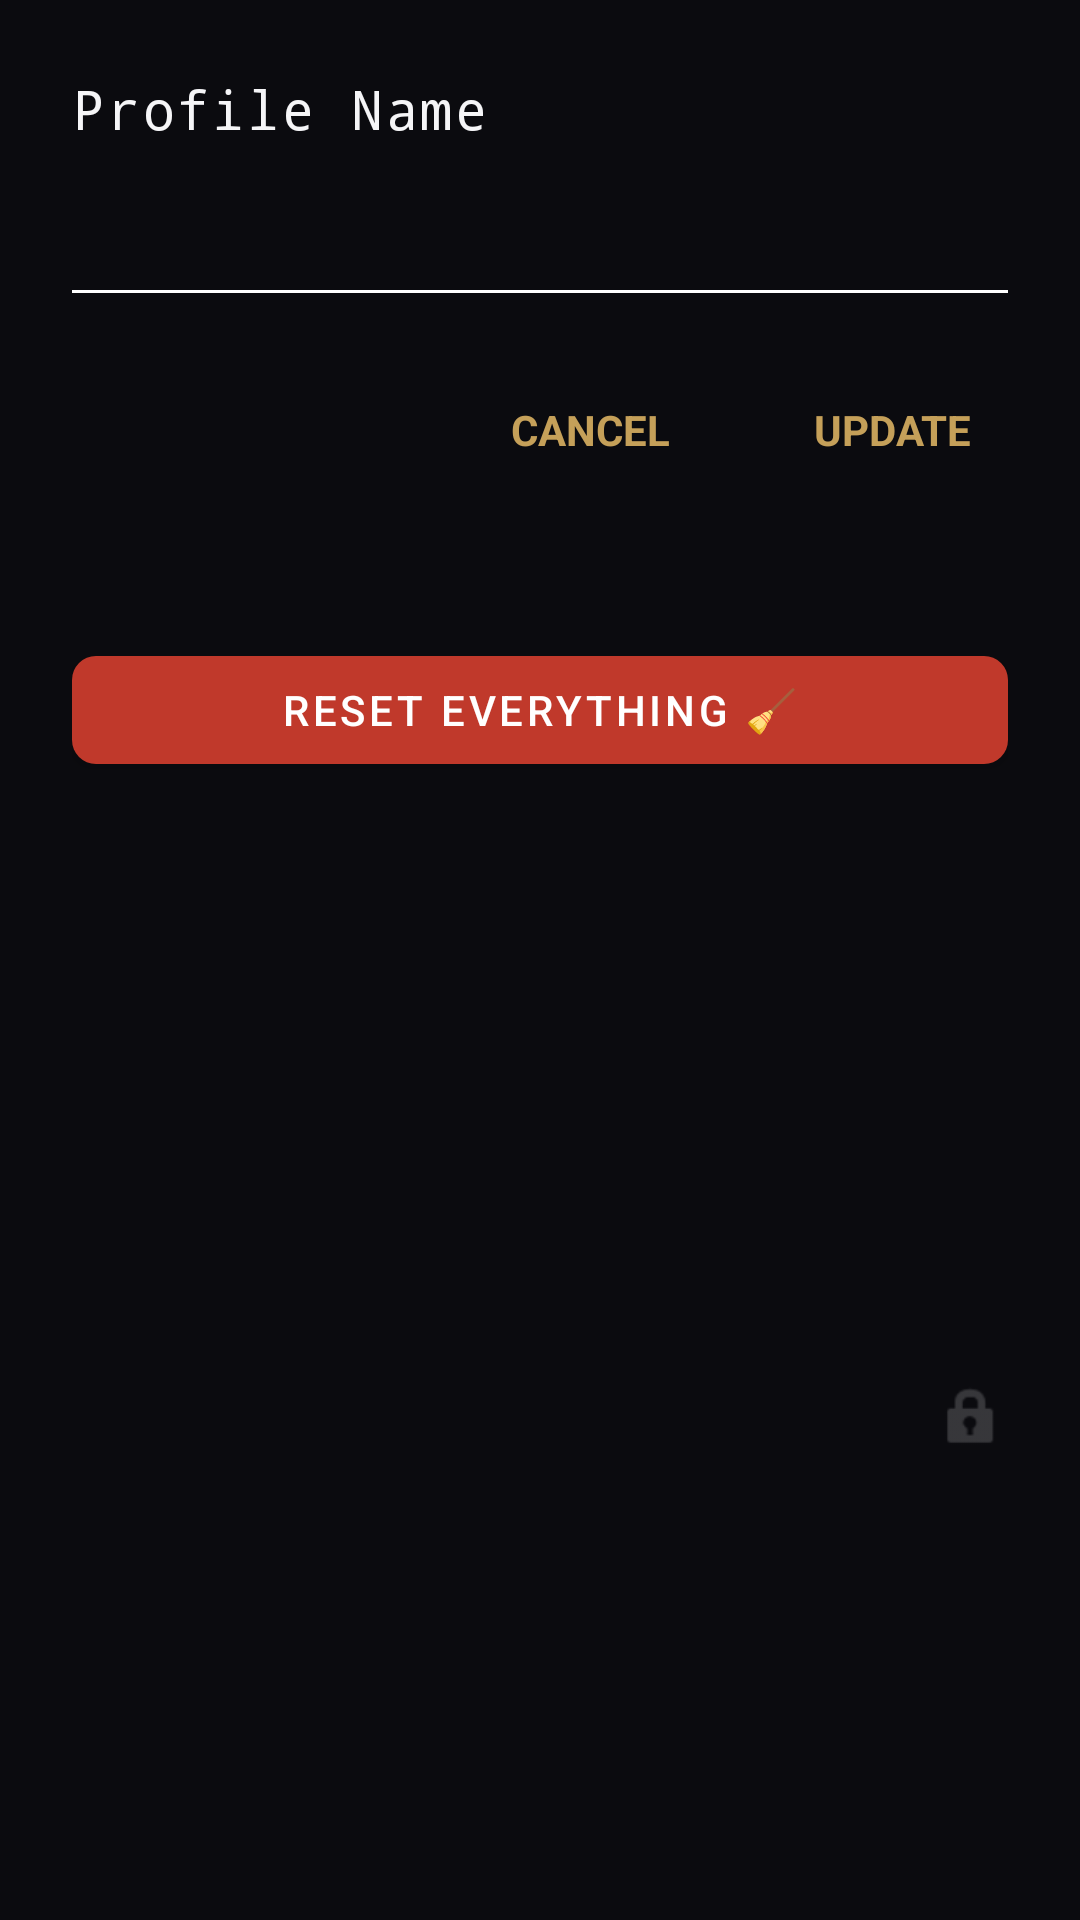

Where icons sit on this 1080*1920 app screen, as (x1, y1, x2, y2):
lock idle: (947, 1389, 993, 1443)
